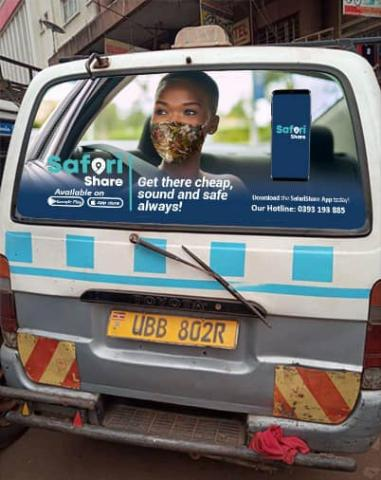van: (0, 24, 376, 469)
